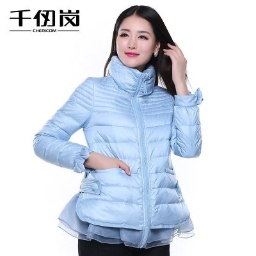face: (107, 4, 179, 85)
